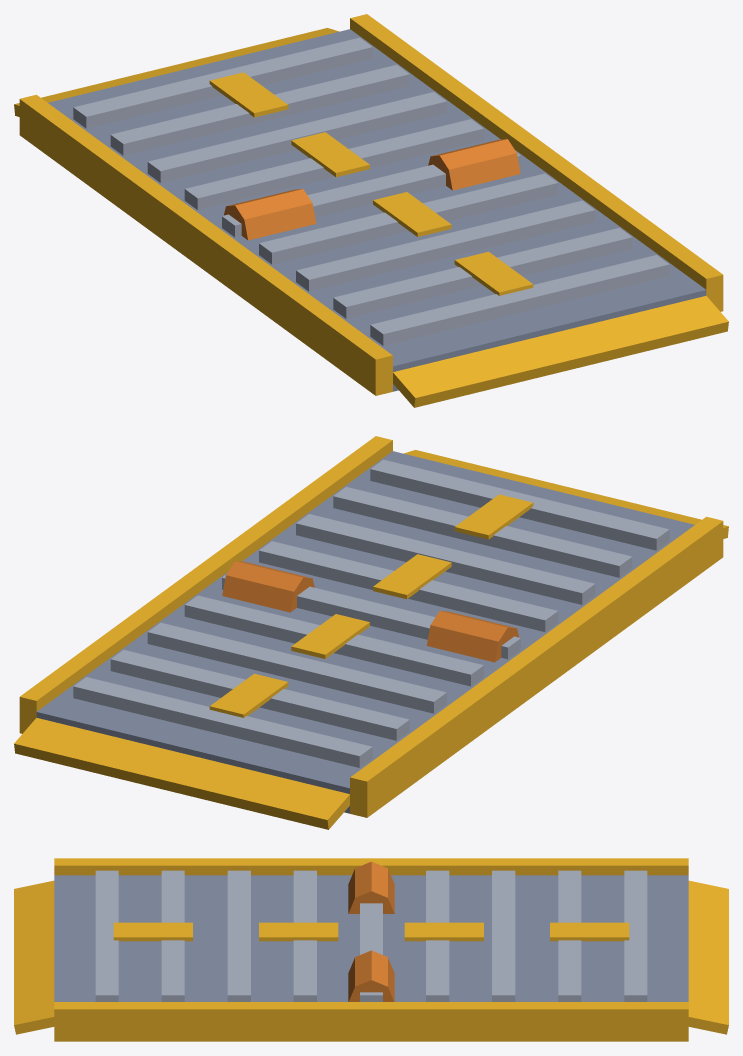
File: vibe_floor.glb
The picture shows the model from 3 angles, top to bottom: view 1: azimuth 30°, elevation 25°; view 2: azimuth 150°, elevation 25°; view 3: azimuth 270°, elevation 25°; orthographic projection. The views are drawn at different scales.
Visible parts, largest first — view 1: vibe_floor; view 2: vibe_floor; view 3: vibe_floor.
Part boxes in pixels (<box>): vibe_floor: <box>14,14,728,407</box>; vibe_floor: <box>14,436,728,829</box>; vibe_floor: <box>14,858,728,1041</box>.
Bounding box in the file's own units: 1 × 0.1412 × 2.
